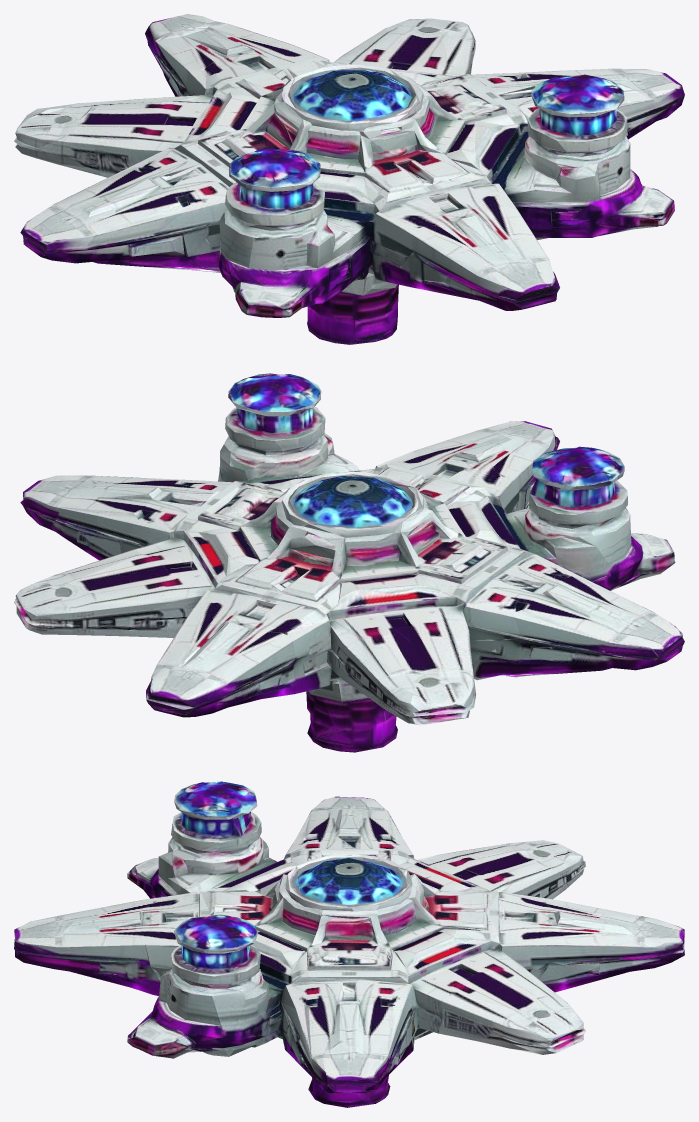
File: nation-f-fortress.glb
3 views of the same model, one above another, from view 1: azimuth 30°, elevation 25°; view 2: azimuth 150°, elevation 25°; view 3: azimuth 270°, elevation 25° (orthographic). The views are drawn at different scales.
Size of the model in its own units: 1.9 by 0.7318 by 1.9.
1 material, 1 textured.
